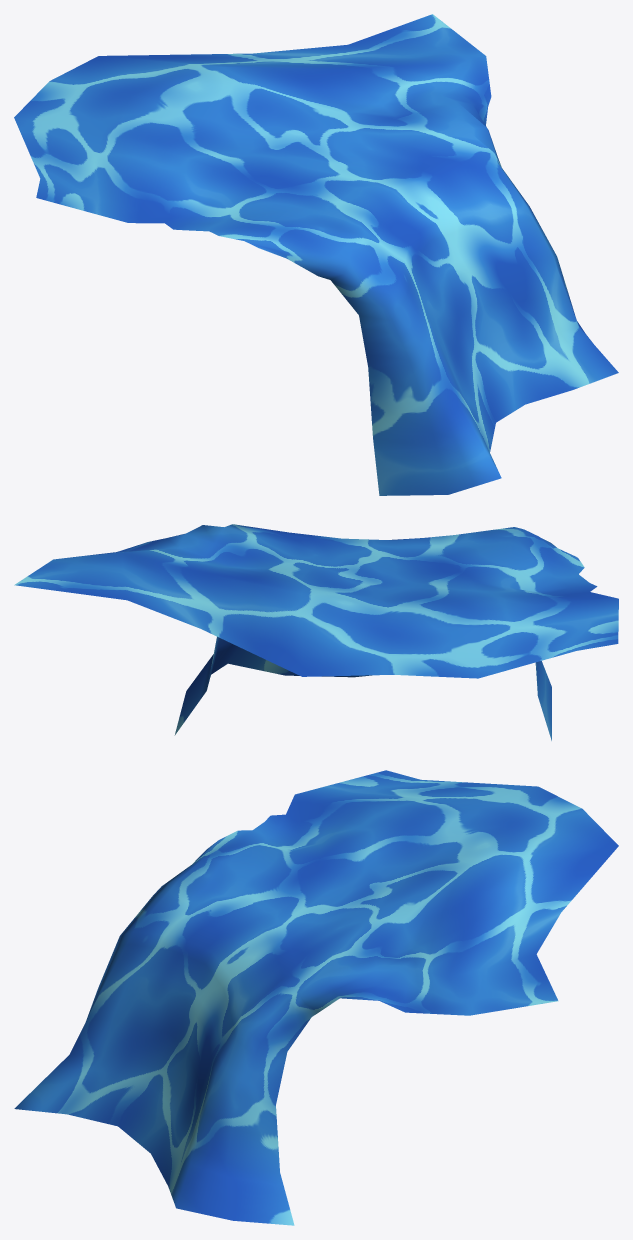
Rendered from SalaLagoVeraoCachoeira1.fbx.
The picture shows the model from 3 angles, top to bottom: view 1: azimuth 30°, elevation 25°; view 2: azimuth 150°, elevation 25°; view 3: azimuth 270°, elevation 25°; orthographic projection. The views are drawn at different scales.
Parts seen in each view (by area): view 1: Cachoeira.001; view 2: Cachoeira.001; view 3: Cachoeira.001.
Boxes of the visible parts, x1,y1,x2,y2 form: Cachoeira.001: (14,14,618,495); Cachoeira.001: (14,524,618,740); Cachoeira.001: (14,770,618,1225).
Bounding box in the file's own units: 160 × 85.24 × 173.
